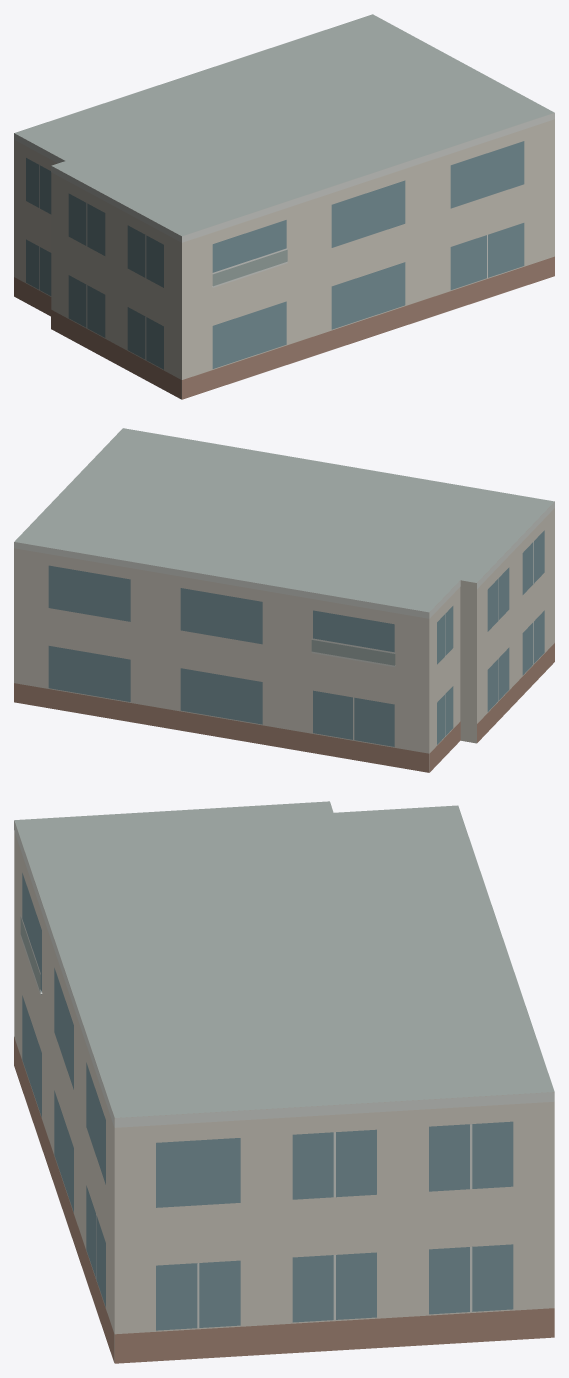
File: survey-upis-33038514.glb
3 renders of one model, top to bottom at view 1: azimuth 30°, elevation 25°; view 2: azimuth 150°, elevation 25°; view 3: azimuth 270°, elevation 25°, orthographic. The views are drawn at different scales.
Visible parts, largest first — view 1: survey-upis-33038514.tmp; view 2: survey-upis-33038514.tmp; view 3: survey-upis-33038514.tmp.
Part boxes in pixels (bbox=[...]): survey-upis-33038514.tmp: bbox=[14, 14, 554, 399]; survey-upis-33038514.tmp: bbox=[14, 428, 554, 772]; survey-upis-33038514.tmp: bbox=[14, 801, 554, 1363].
Bounding box in the file's own units: 16.89 × 6.1 × 12.18.
